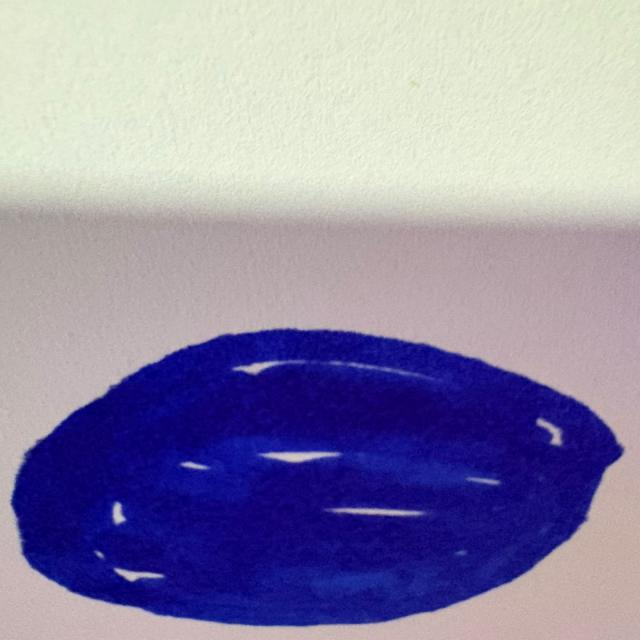Circle: (9, 319, 626, 631)
